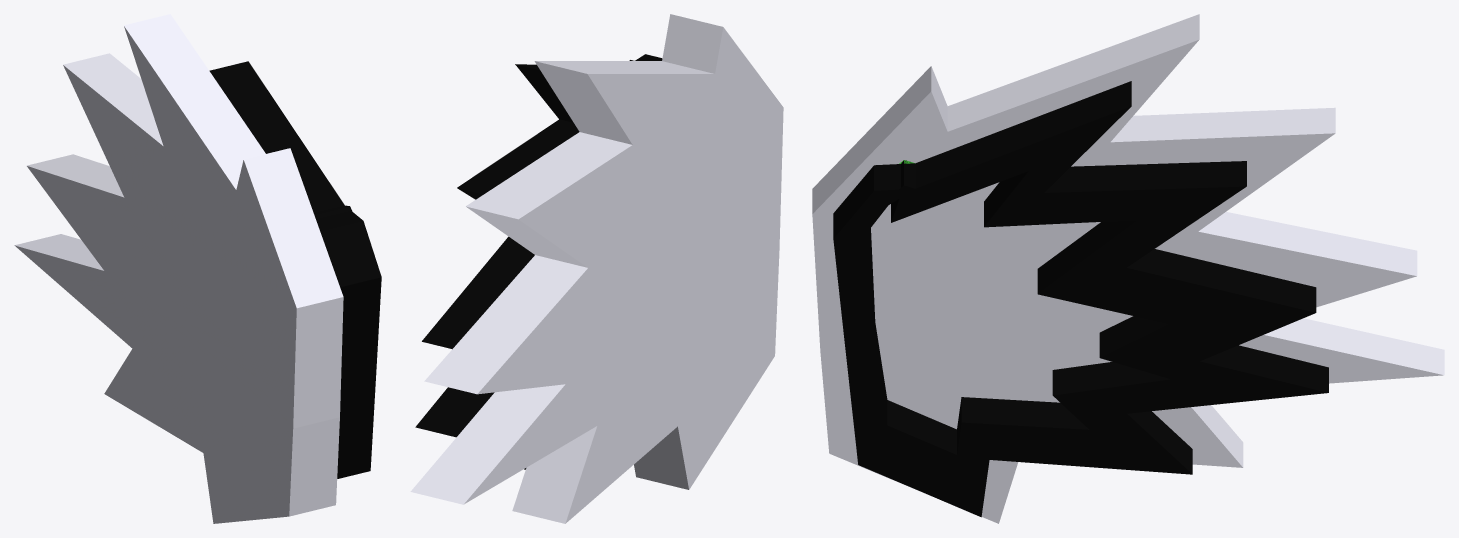
File: decoration2.obj
3 views of the same model, side by side, from view 1: azimuth 30°, elevation 25°; view 2: azimuth 150°, elevation 25°; view 3: azimuth 270°, elevation 25° (orthographic). The views are drawn at different scales.
Parts seen in each view (by area): view 1: 平面.002; view 2: 平面.002; view 3: 平面.002.
Boxes of the visible parts, left/top/right/bottom form: 平面.002: left=14, top=14, right=381, bottom=523; 平面.002: left=410, top=14, right=783, bottom=523; 平面.002: left=812, top=14, right=1444, bottom=523.
Bounding box in the file's own units: 0.3201 × 1.4 × 1.66.
Materials: 1 (1 with a texture image).
